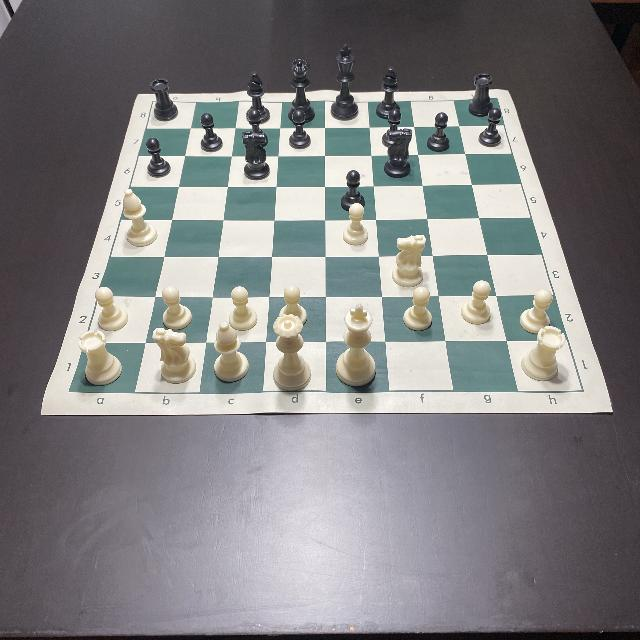black-bishop: (246, 73, 272, 125), (376, 68, 399, 119)
black-king: (330, 45, 358, 121)
black-knight: (242, 132, 270, 180), (386, 128, 412, 178)
black-pawn: (146, 136, 170, 178), (380, 110, 406, 148), (428, 111, 452, 152), (200, 112, 223, 154), (342, 170, 366, 210), (245, 110, 269, 148), (479, 110, 503, 146), (288, 111, 310, 149)
black-queen: (286, 58, 314, 124)
black-rook: (468, 74, 496, 116), (150, 79, 178, 121)
board: (40, 90, 616, 414)
white-bishop: (212, 322, 250, 382), (122, 188, 158, 246)
white-king: (334, 304, 374, 386)
white-knight: (151, 327, 195, 383), (392, 234, 426, 286)
white-pawn: (96, 287, 130, 331), (518, 290, 552, 332), (160, 286, 192, 330), (462, 280, 492, 326), (228, 285, 256, 329), (403, 287, 432, 329), (278, 284, 308, 324), (344, 203, 368, 245)
white-queen: (272, 314, 310, 390)
white-rook: (520, 326, 564, 382), (79, 332, 123, 384)
